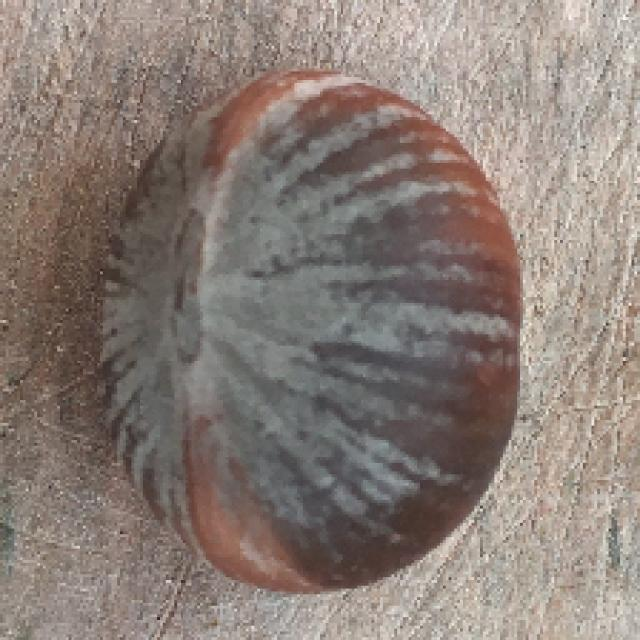qualityHazelnut: (99, 66, 524, 582)
